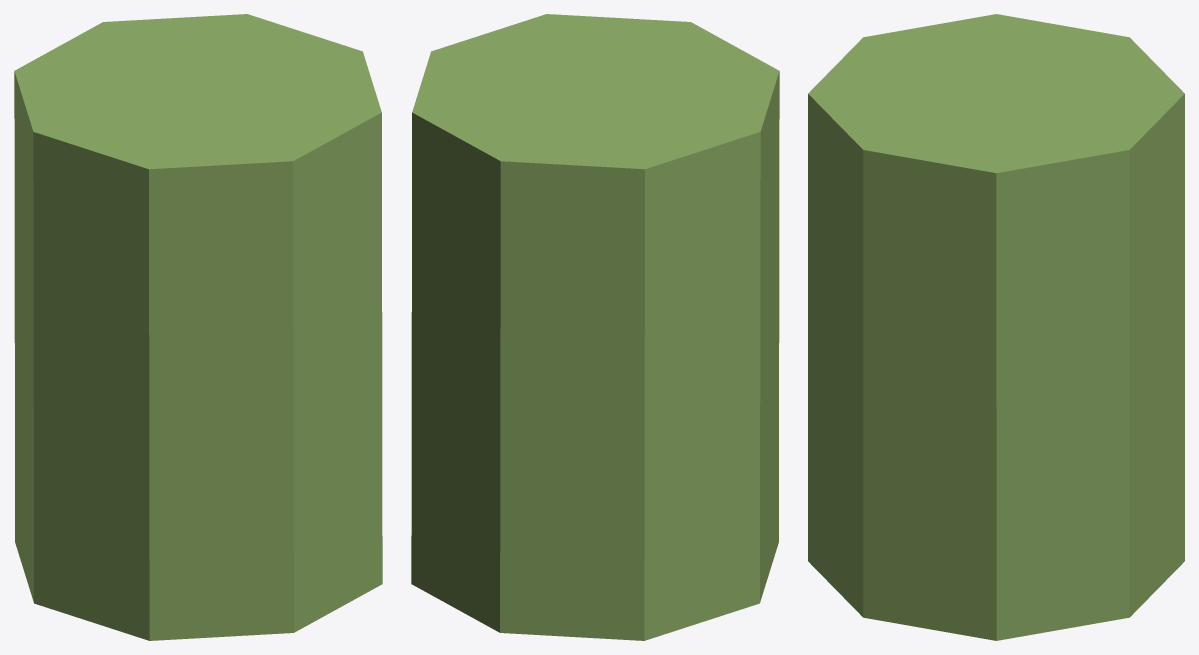
The model's file is Itr_Obj_Dispenser_Sauce_10.FBX.
3 views of the same model, side by side, from view 1: azimuth 30°, elevation 25°; view 2: azimuth 150°, elevation 25°; view 3: azimuth 270°, elevation 25° (orthographic).
Visible parts, largest first — view 1: Itr_Obj_Dispenser_Sauce_10; view 2: Itr_Obj_Dispenser_Sauce_10; view 3: Itr_Obj_Dispenser_Sauce_10.
Part boxes in pixels (x1,y1,x2,y2): Itr_Obj_Dispenser_Sauce_10: (14, 14, 382, 640); Itr_Obj_Dispenser_Sauce_10: (411, 14, 779, 640); Itr_Obj_Dispenser_Sauce_10: (808, 14, 1184, 640).
Bounding box in the file's own units: 3.78 × 5.16 × 3.77.
